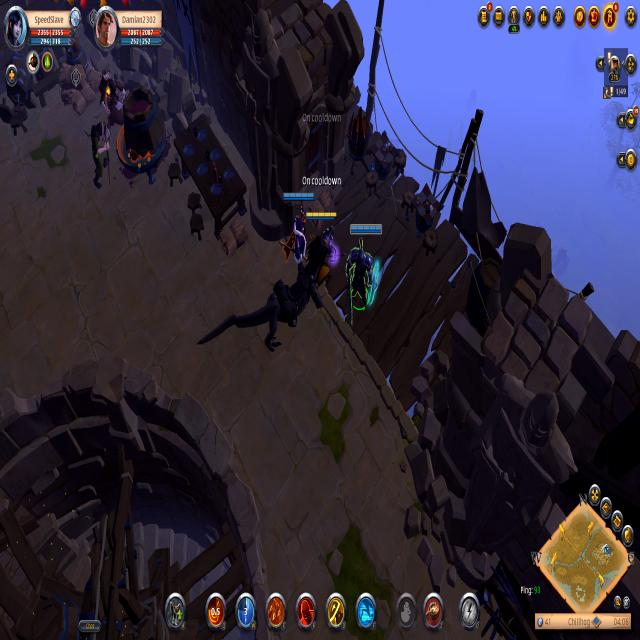ore: (95, 63, 132, 140), (85, 114, 110, 200)
red: (343, 220, 384, 312), (280, 188, 315, 270), (305, 204, 340, 282)
